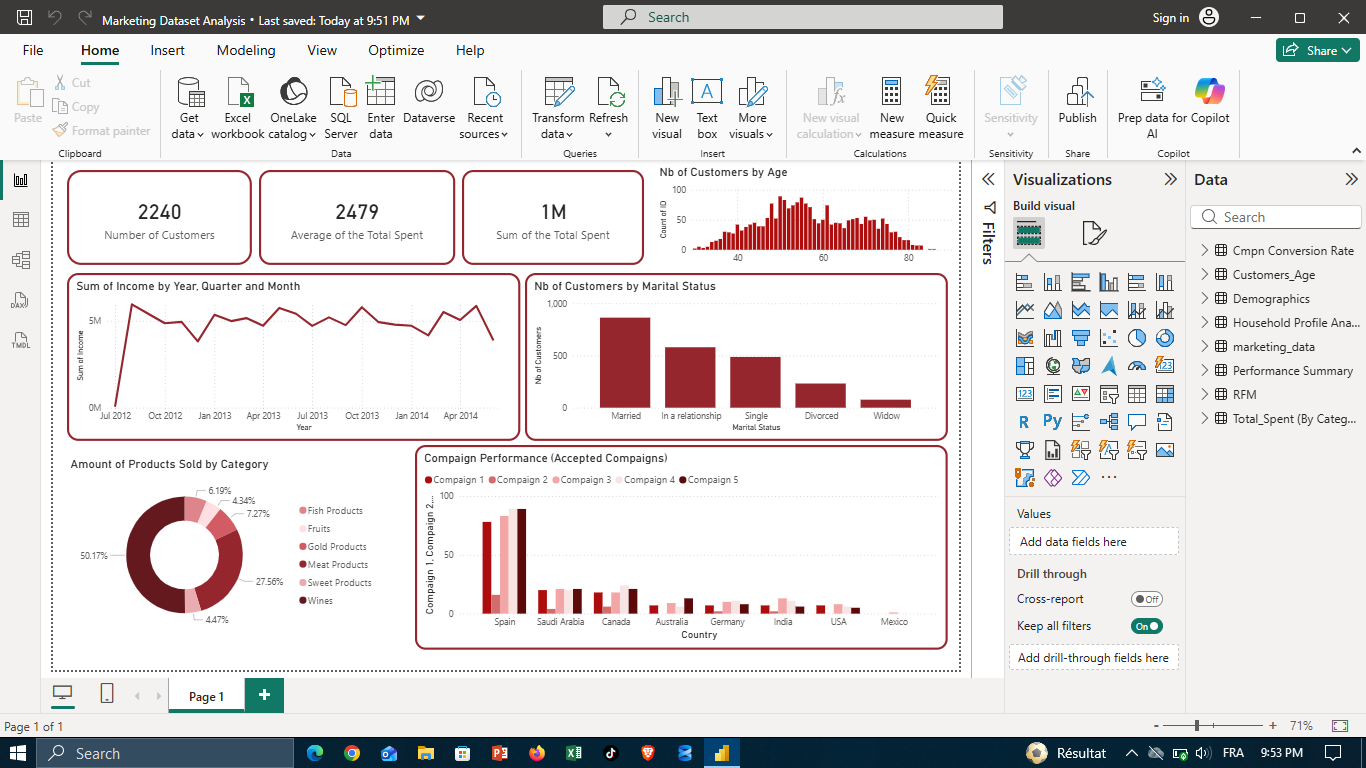

Layout of this report page (visuals, bound fields, positions):
{"tool":"powerbi","page":{"name":"Page 1","canvas":[1280,720],"ordinal":0},"visuals":[{"type":"lineChart","fields":{"Category":["marketing_data.Dt_Customer.Variation.Date Hierarchy.Year","marketing_data.Dt_Customer.Variation.Date Hierarchy.Quarter","marketing_data.Dt_Customer.Variation.Date Hierarchy.Month","marketing_data.Dt_Customer.Variation.Date Hierarchy.Day"],"Y":["Sum(marketing_data. Income )"]},"box":[19.8,159.5,639.5,237.2],"z":0},{"type":"card","fields":{"Values":["CountNonNull(marketing_data.ID)"]},"box":[19.8,14.1,261.2,134.1],"z":1000},{"type":"card","fields":{"Values":["Sum(Demographics.AvgTotalSpend)"]},"box":[290.8,14.1,276.7,134.1],"z":2000},{"type":"card","fields":{"Values":["Sum(Total_Spent (By Category).TotalSpend)"]},"box":[577.4,14.1,256.9,134.1],"z":3000},{"type":"clusteredColumnChart","fields":{"Category":["marketing_data.Marital_Status"],"Y":["CountNonNull(marketing_data.ID)"]},"box":[666.4,159.5,597.2,237.2],"z":4000},{"type":"donutChart","title":"Amount of Products Sold by Category","fields":{"Y":["Sum(marketing_data.MntFishProducts)","Sum(marketing_data.MntFruits)","Sum(marketing_data.MntGoldProds)","Sum(marketing_data.MntMeatProducts)","Sum(marketing_data.MntSweetProducts)","Sum(marketing_data.MntWines)"]},"box":[19.8,419.3,444.7,255.5],"z":5000},{"type":"clusteredColumnChart","title":"Compaign Performance (Accepted Compaigns)","fields":{"Category":["marketing_data.Country"],"Y":["Sum(marketing_data.AcceptedCmp1)","Sum(marketing_data.AcceptedCmp2)","Sum(marketing_data.AcceptedCmp3)","Sum(marketing_data.AcceptedCmp4)","Sum(marketing_data.AcceptedCmp5)"]},"box":[511.1,402.4,752.5,289.4],"z":6000},{"type":"clusteredColumnChart","title":"Nb of Customers by Age","fields":{"Category":["Customers_Age.Age"],"Y":["CountNonNull(Customers_Age.ID)"]},"box":[851.3,7.1,429.2,149.6],"z":6001}]}

Visuals, with their boxes on the page's 1280x720 design canvas (x1, y1, x2, y2). These are canvas units, not pixel positions in the 1366x768 screenshot, which may show the page scaled, cropped or inside an application window:
lineChart - marketing_data.Dt_Customer.Variation.Date Hierarchy.Year x marketing_data.Dt_Customer.Variation.Date Hierarchy.Quarter: locate(20, 160, 659, 397)
card - CountNonNull(marketing_data.ID): locate(20, 14, 281, 148)
card - Sum(Demographics.AvgTotalSpend): locate(291, 14, 568, 148)
card - Sum(Total_Spent (By Category).TotalSpend): locate(577, 14, 834, 148)
clusteredColumnChart - marketing_data.Marital_Status x CountNonNull(marketing_data.ID): locate(666, 160, 1264, 397)
"Amount of Products Sold by Category" donutChart: locate(20, 419, 464, 675)
"Compaign Performance (Accepted Compaigns)" clusteredColumnChart: locate(511, 402, 1264, 692)
"Nb of Customers by Age" clusteredColumnChart: locate(851, 7, 1280, 157)
